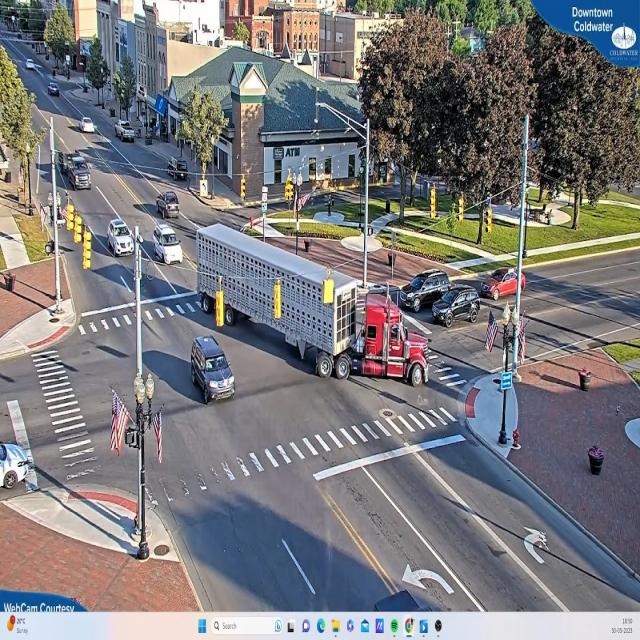car: (190, 336, 235, 402), (400, 272, 455, 313), (0, 444, 39, 492), (432, 290, 480, 328), (150, 221, 182, 267), (484, 271, 528, 303), (106, 217, 134, 253), (157, 192, 180, 218), (118, 120, 138, 143), (49, 83, 61, 97)
truck: (202, 220, 425, 387)
